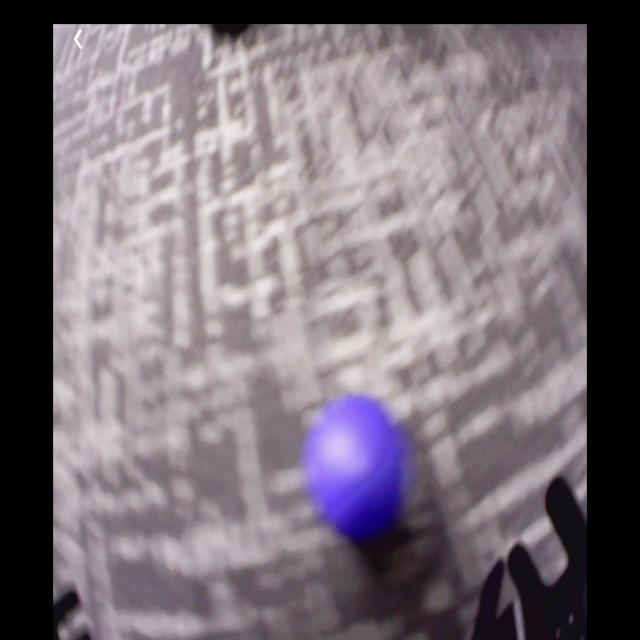ball: (310, 399, 402, 536)
